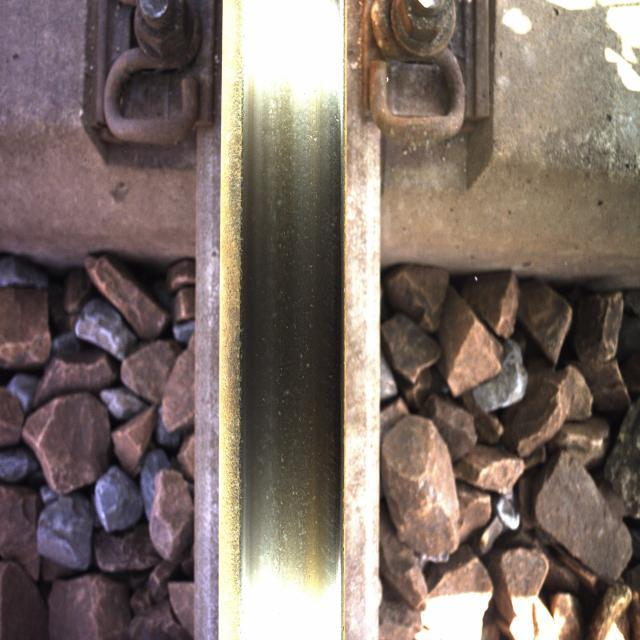break: (240, 73, 322, 575)
